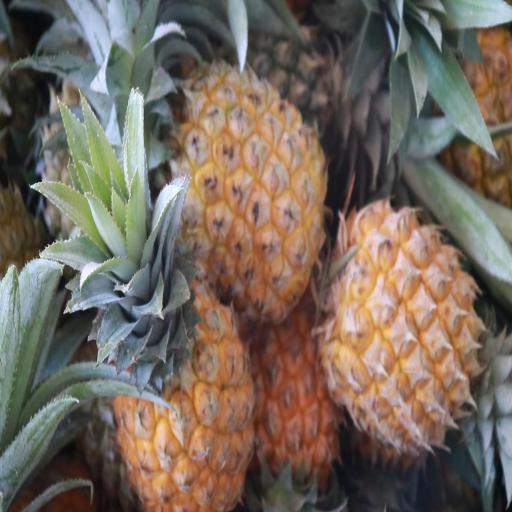Pineapple - v8 v1: (115, 182, 257, 512), (173, 62, 328, 319), (326, 198, 482, 453), (248, 311, 344, 511)
